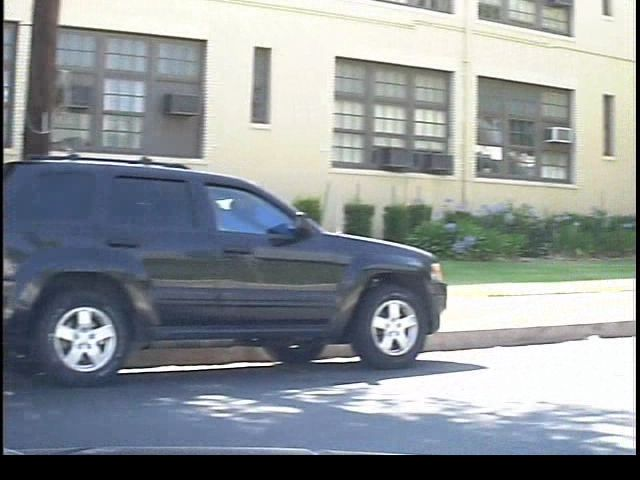car: (1, 156, 441, 390)
